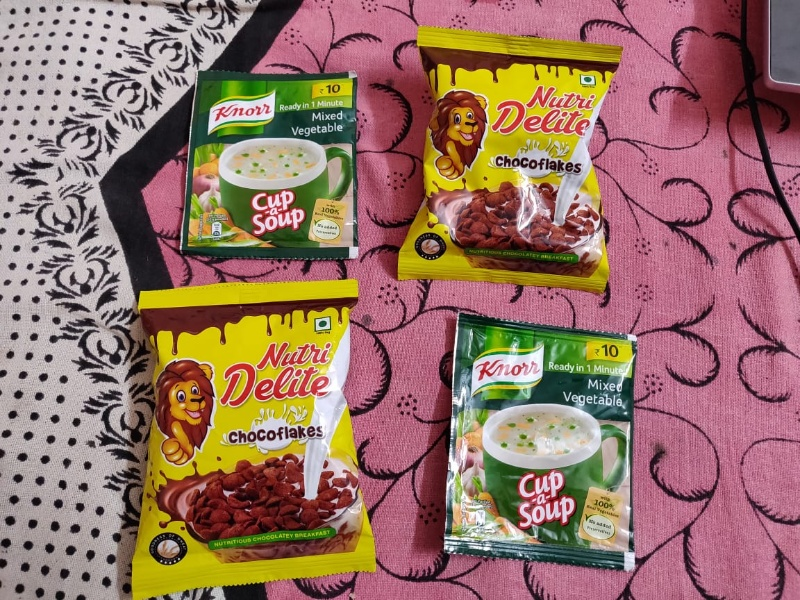Knorr_Cup_Soup: (442, 312, 645, 573), (180, 62, 364, 265)
nutriDelite: (135, 291, 374, 573), (405, 19, 616, 284)
